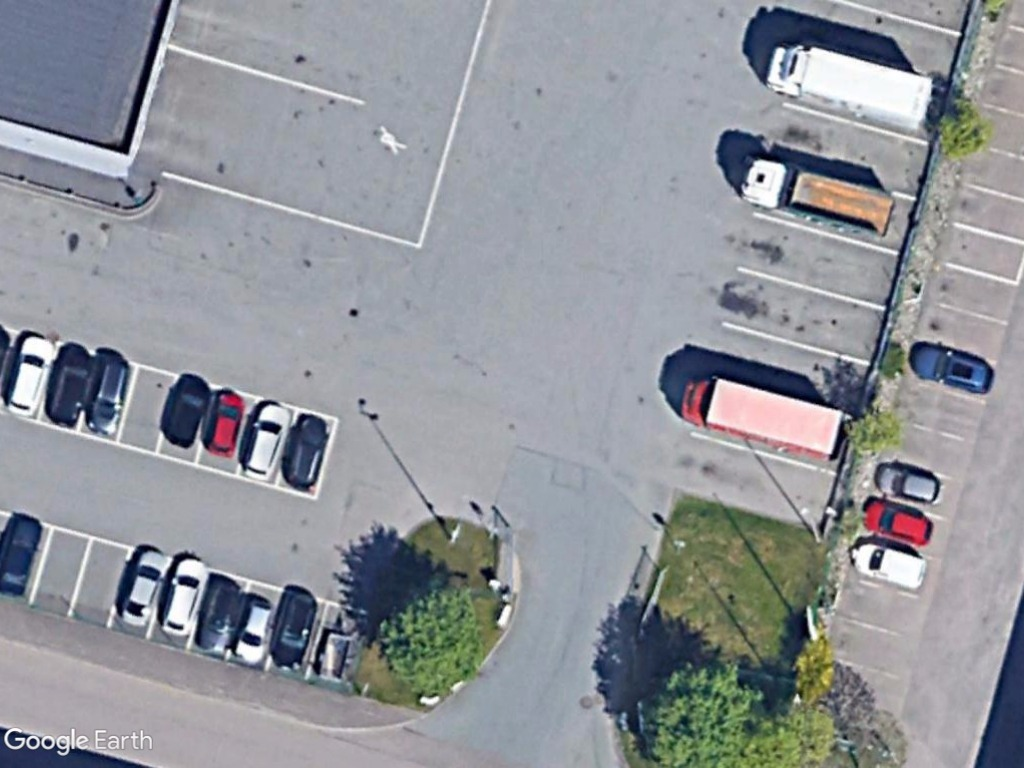car: (910, 336, 1001, 402), (235, 395, 298, 487), (153, 550, 212, 640), (40, 346, 100, 434), (1, 329, 58, 421), (856, 492, 940, 550), (81, 348, 134, 439), (276, 411, 335, 491), (116, 544, 170, 631), (265, 587, 319, 672), (0, 512, 48, 606), (162, 375, 215, 452), (871, 459, 950, 510), (229, 593, 278, 670), (203, 386, 246, 462)
other: (734, 151, 900, 239)
truck: (765, 31, 940, 137), (675, 368, 850, 462)
van: (841, 535, 930, 591)
